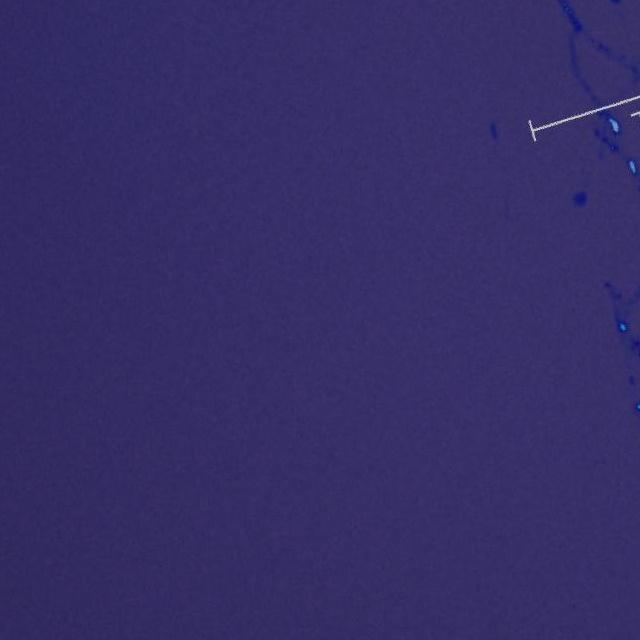monolayer-eWW4: (572, 189, 588, 208)
